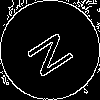N: (25, 25, 83, 80)
